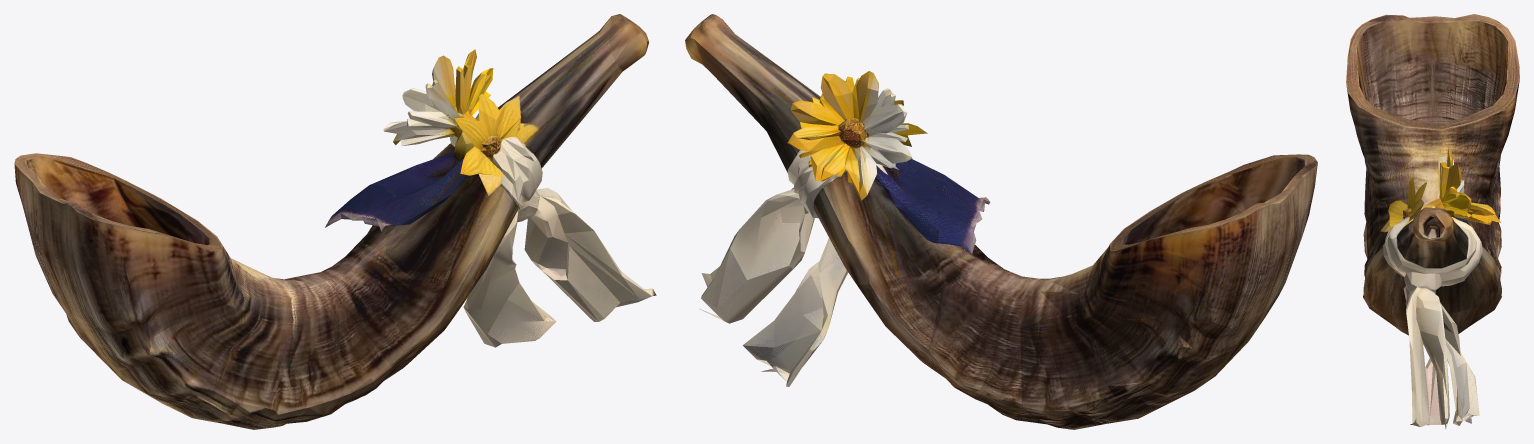
File: shofar.glb
The picture shows the model from 3 angles, left to right: view 1: azimuth 30°, elevation 25°; view 2: azimuth 150°, elevation 25°; view 3: azimuth 270°, elevation 25°; orthographic projection. The views are drawn at different scales.
Size of the model in its own units: 1.89 by 0.9698 by 0.6152.
Materials: 1 (1 with a texture image).
